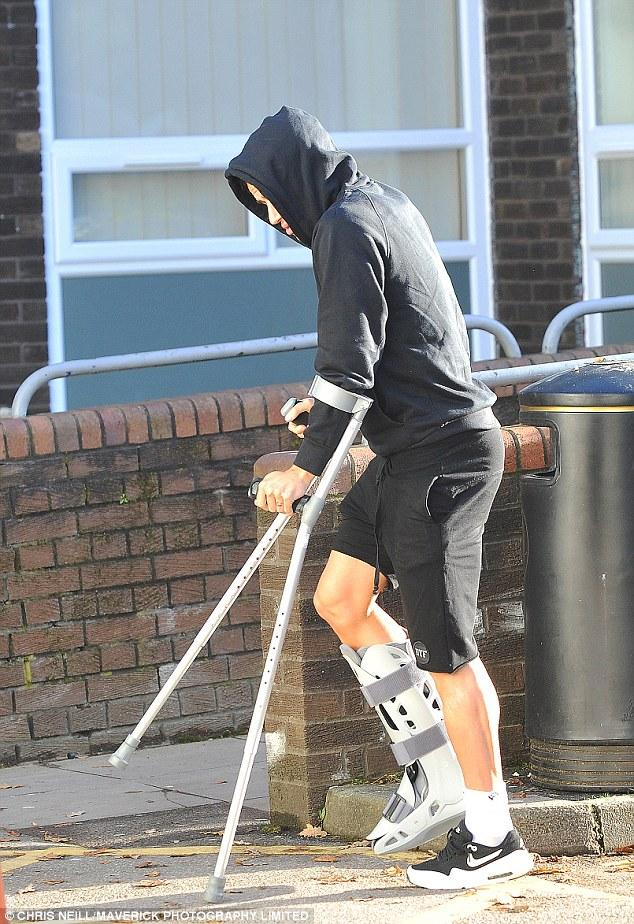crutches: (109, 106, 536, 903)
